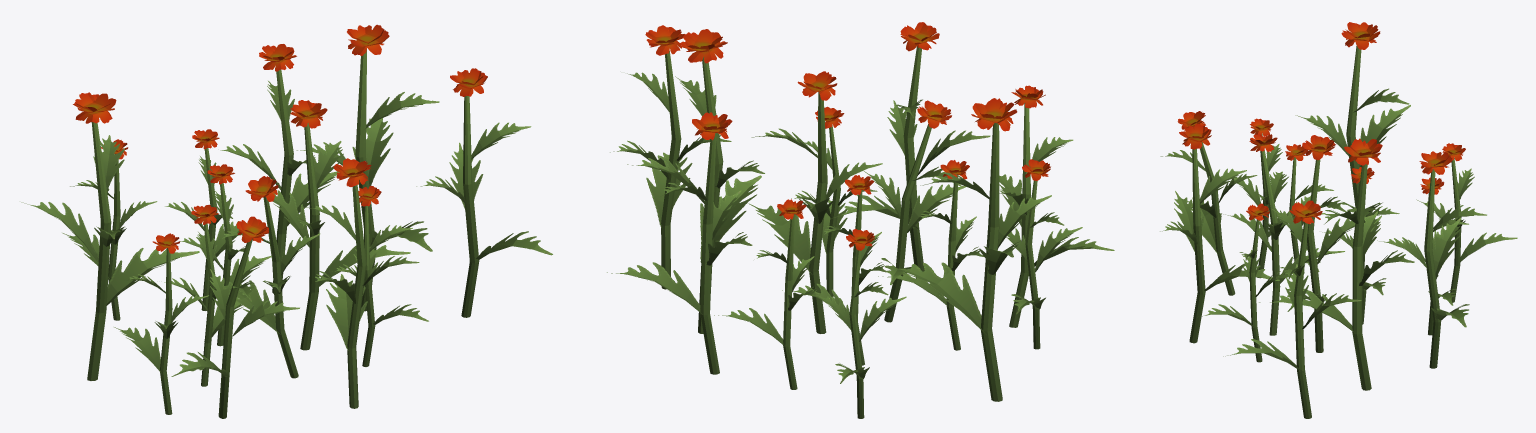
The model's file is Orange Flowers.fbx.
The picture shows the model from 3 angles, left to right: view 1: azimuth 30°, elevation 25°; view 2: azimuth 150°, elevation 25°; view 3: azimuth 270°, elevation 25°; orthographic projection. The views are drawn at different scales.
Parts seen in each view (by area): view 1: Orange_Flowers; view 2: Orange_Flowers; view 3: Orange_Flowers.
Part boxes in pixels (x1=…): Orange_Flowers: x1=21, y1=24, x2=552, y2=418; Orange_Flowers: x1=607, y1=22, x2=1114, y2=418; Orange_Flowers: x1=1160, y1=22, x2=1517, y2=418.
Size of the model in its own units: 223 by 131 by 179.
